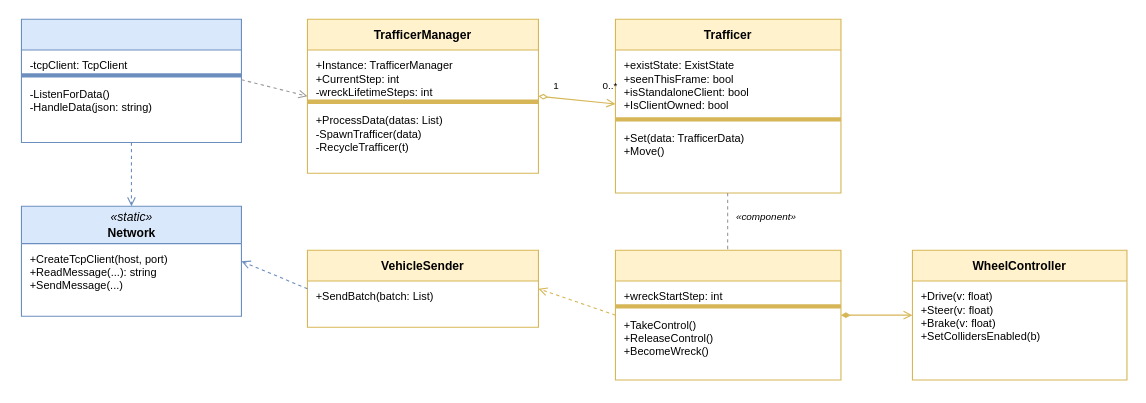
The diagram is 1146 pixels wide and 403 high, and some of its shapes have lost their labels. The box of each missing label's shape, as (x1, y1, x2, y2) in pixels:
TrafficDataListener: (20, 18, 241, 142)
UnityVehicle: (614, 249, 841, 380)
